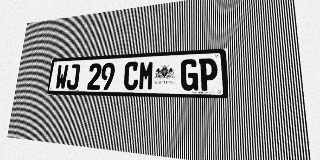2: (87, 63, 102, 90)
9: (100, 62, 115, 90)
C: (123, 61, 139, 90)
G: (181, 59, 198, 91)
J: (66, 64, 80, 90)
M: (138, 61, 155, 90)
P: (199, 58, 218, 91)
W: (55, 64, 69, 89)
